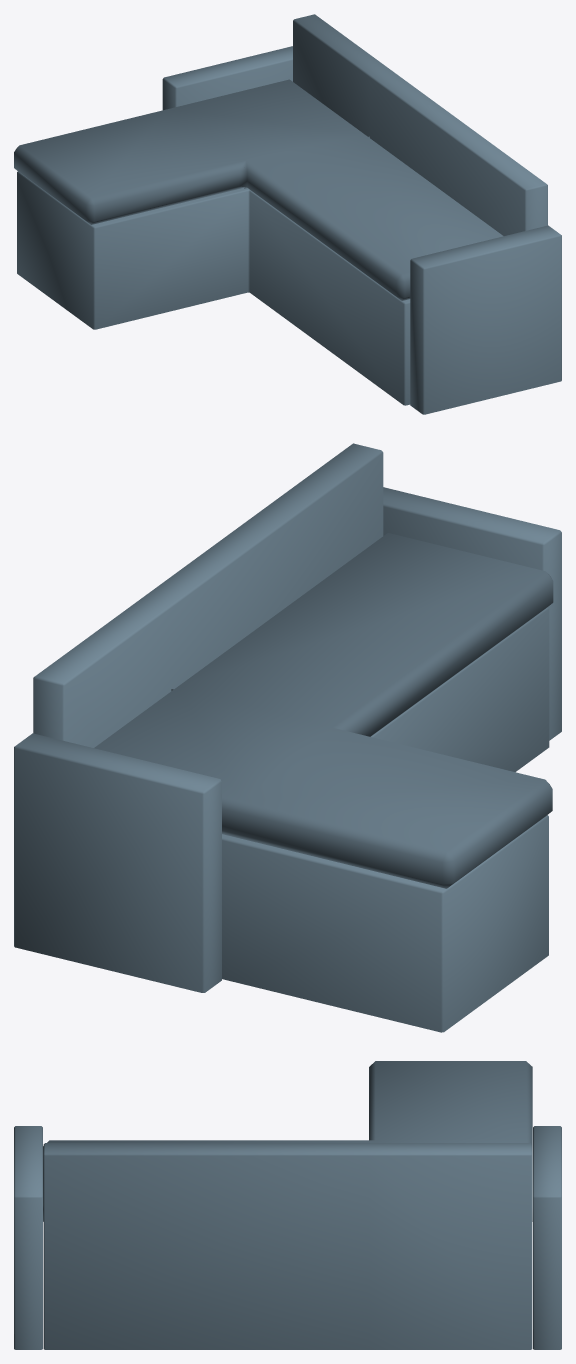
File: sofa.glb
3 views of the same model, one above another, from view 1: azimuth 30°, elevation 25°; view 2: azimuth 150°, elevation 25°; view 3: azimuth 270°, elevation 25° (orthographic). The views are drawn at different scales.
Parts seen in each view (by area): view 1: Sofa, SofaPillows; view 2: Sofa, SofaPillows; view 3: Sofa, SofaPillows.
Part boxes in pixels (bbox=[...]): Sofa: bbox=[17, 14, 561, 414]; SofaPillows: bbox=[14, 79, 503, 300]; Sofa: bbox=[14, 443, 561, 1032]; SofaPillows: bbox=[94, 533, 553, 888]; Sofa: bbox=[14, 1126, 561, 1349]; SofaPillows: bbox=[43, 1061, 532, 1221].
Size of the model in its own units: 1.13 by 0.6599 by 1.68.
